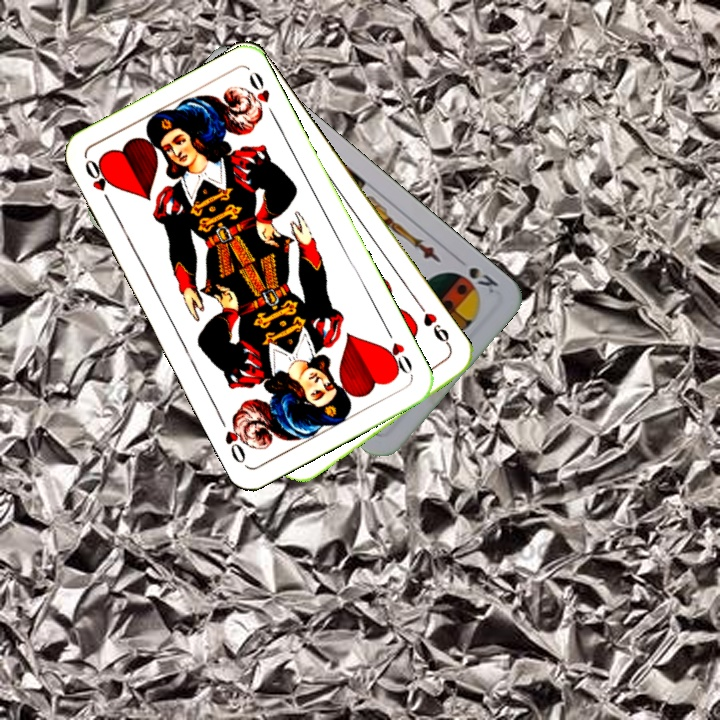H9: (414, 299, 454, 351)
HO: (378, 324, 416, 379), (81, 155, 116, 209)
SK: (451, 252, 501, 296)
